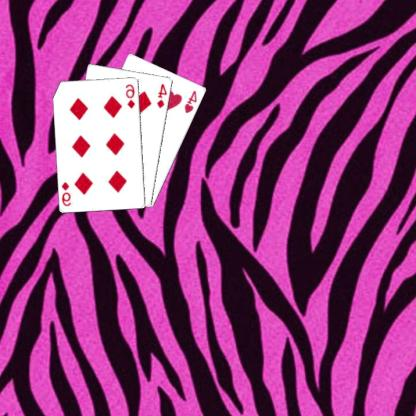4D: (156, 81, 170, 109)
4H: (183, 88, 200, 114)
6D: (125, 82, 138, 110), (61, 179, 74, 207)
